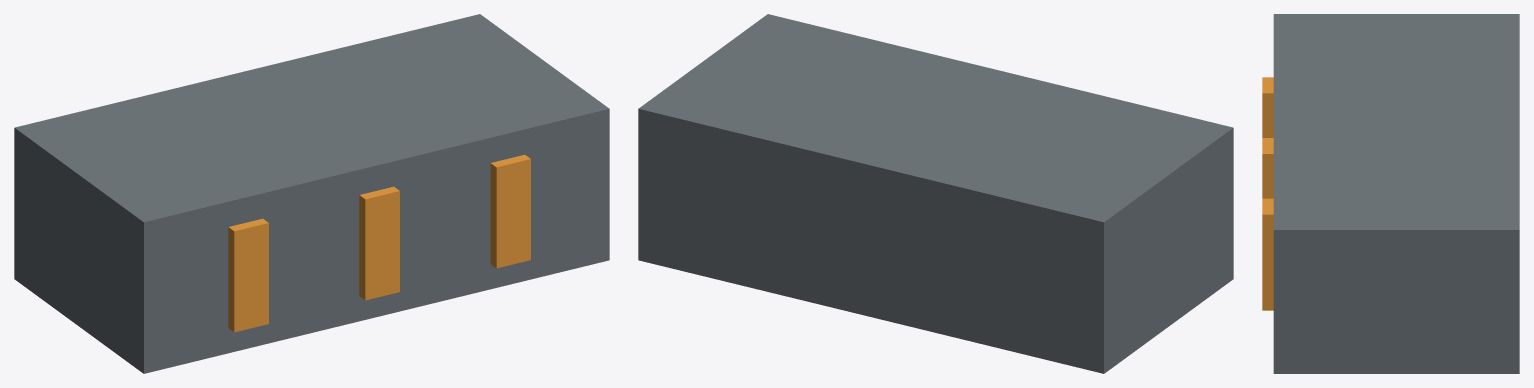
The model's file is morrow_alloy.glb.
3 renders of one model, left to right at view 1: azimuth 30°, elevation 25°; view 2: azimuth 150°, elevation 25°; view 3: azimuth 270°, elevation 25°, orthographic. The views are drawn at different scales.
Visible parts, largest first — view 1: MaterialIngot, MaterialBand, MaterialBand.001, MaterialBand.002; view 2: MaterialIngot; view 3: MaterialIngot, MaterialBand.002, MaterialBand, MaterialBand.001.
Boxes of the visible parts, x1=… form: MaterialIngot: x1=14, y1=14, x2=609, y2=373; MaterialBand: x1=228, y1=218, x2=268, y2=332; MaterialBand.001: x1=359, y1=186, x2=399, y2=300; MaterialBand.002: x1=490, y1=154, x2=530, y2=268; MaterialIngot: x1=638, y1=14, x2=1233, y2=373; MaterialIngot: x1=1273, y1=14, x2=1519, y2=373; MaterialBand.002: x1=1262, y1=198, x2=1273, y2=310; MaterialBand: x1=1262, y1=77, x2=1273, y2=137; MaterialBand.001: x1=1262, y1=138, x2=1273, y2=198.
Size of the model in its own units: 1.35 by 0.42 by 0.68.
